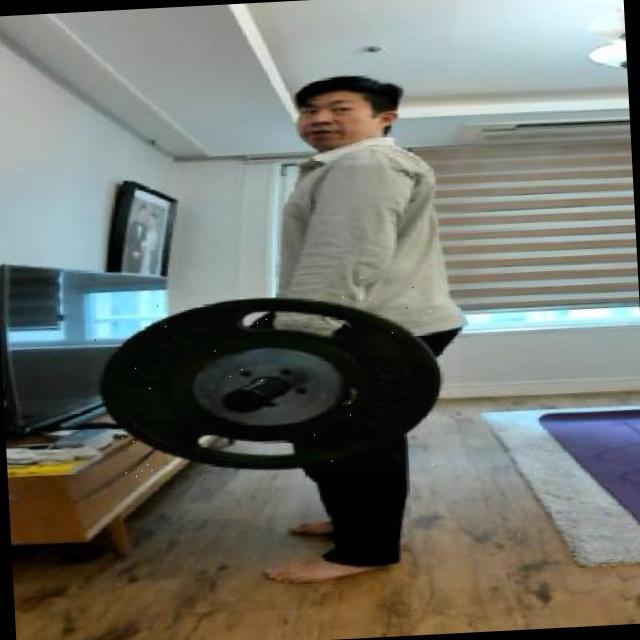barbell: (87, 284, 467, 486)
